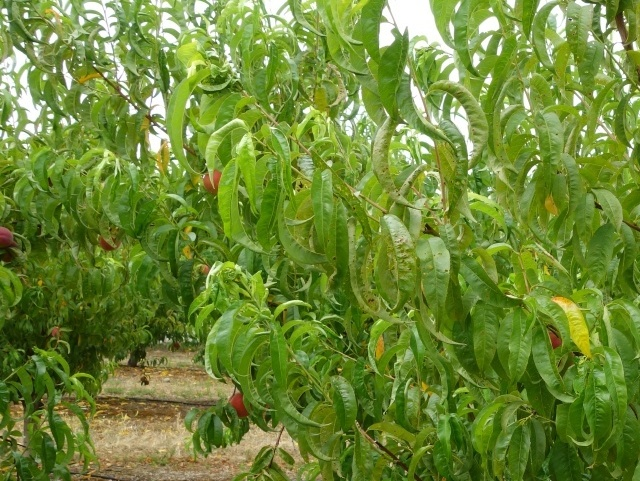peach: (197, 164, 224, 199), (224, 389, 252, 421), (96, 230, 124, 255), (1, 227, 19, 254)
